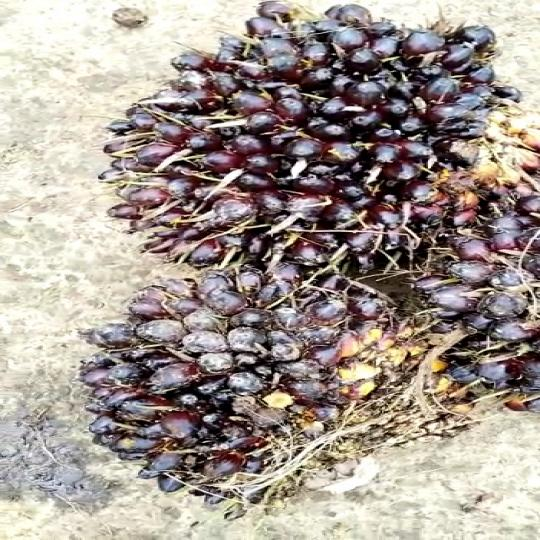mentah: (80, 0, 538, 263), (74, 274, 454, 511)
